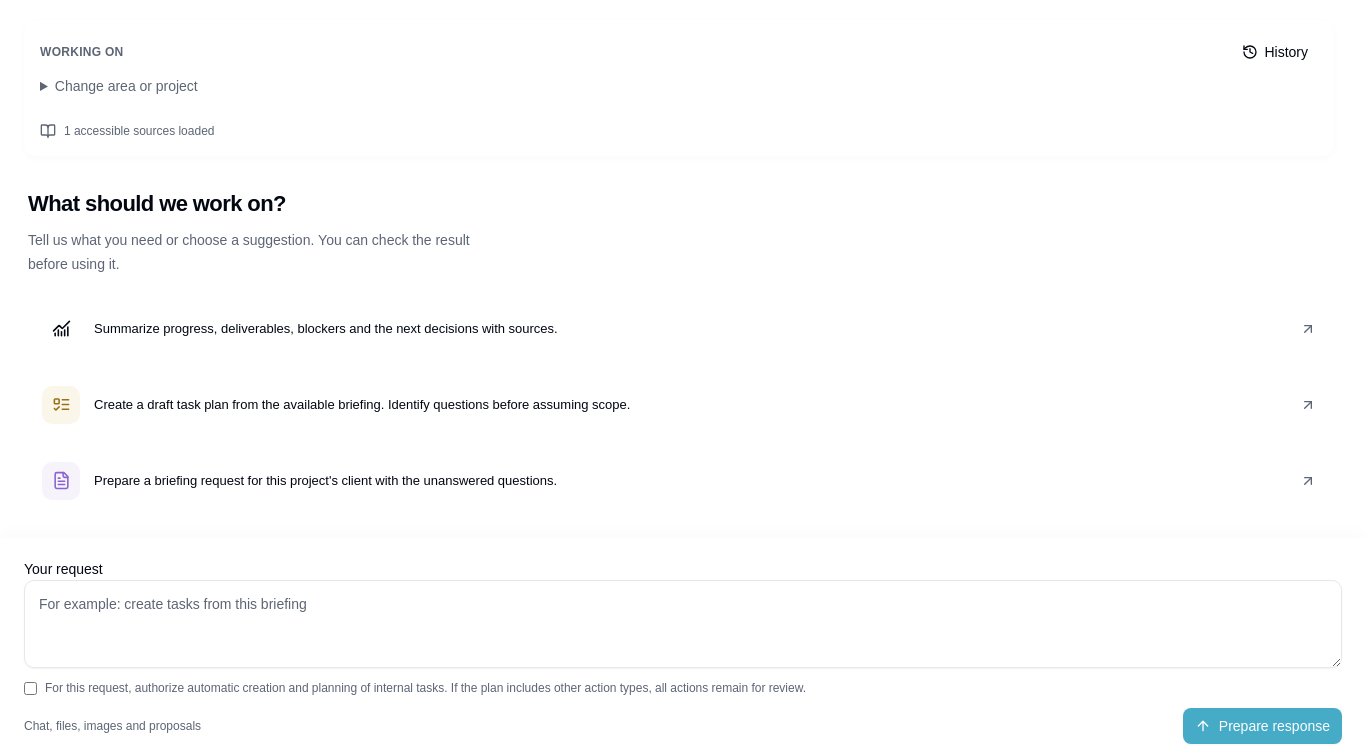
Test: source links use authorized server URLs and a stale-source conflict does not claim success
Expected: the text "1 accessible sources loaded" is shown, [40, 122, 214, 139]
Step 1. Type "Create a review task" into the text box labelled "Your request" → (683, 624), box [24, 580, 1342, 668]
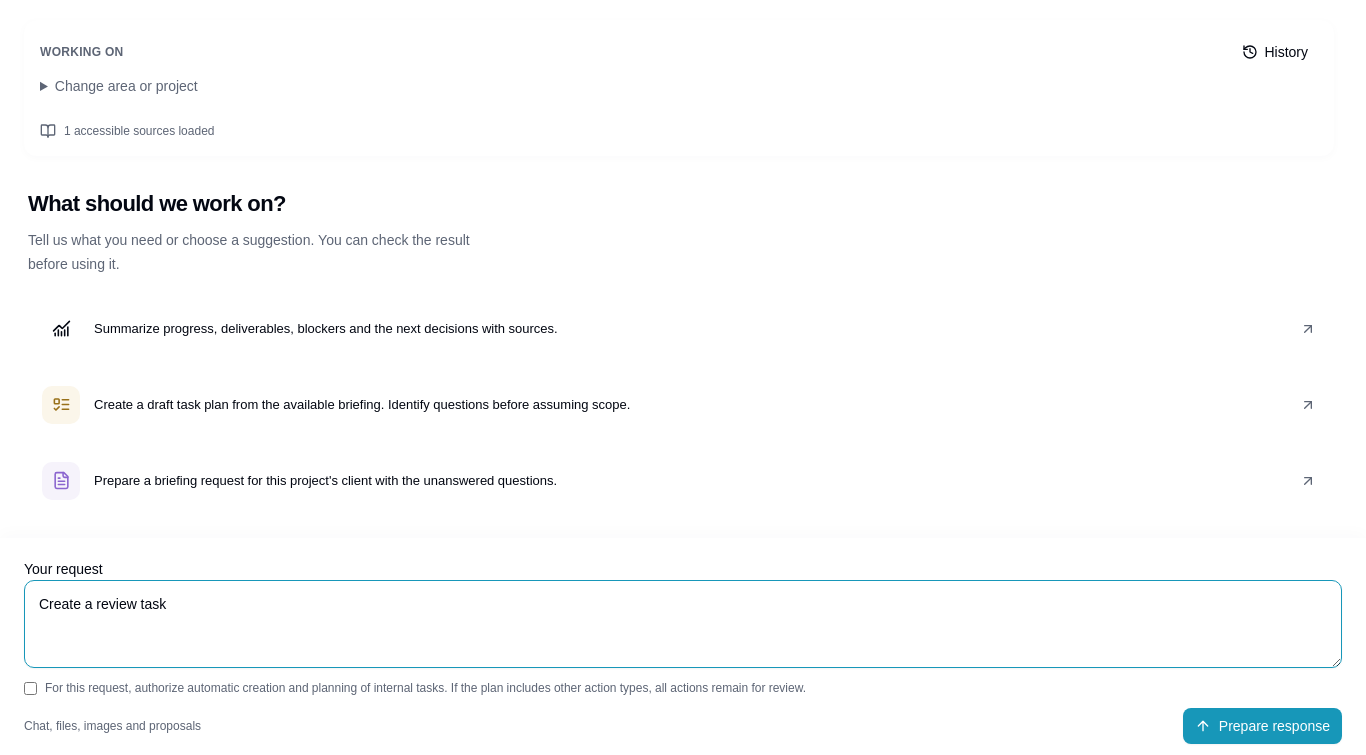
Step 2. Click the button "Prepare response" → (1262, 726), box [1183, 708, 1342, 744]
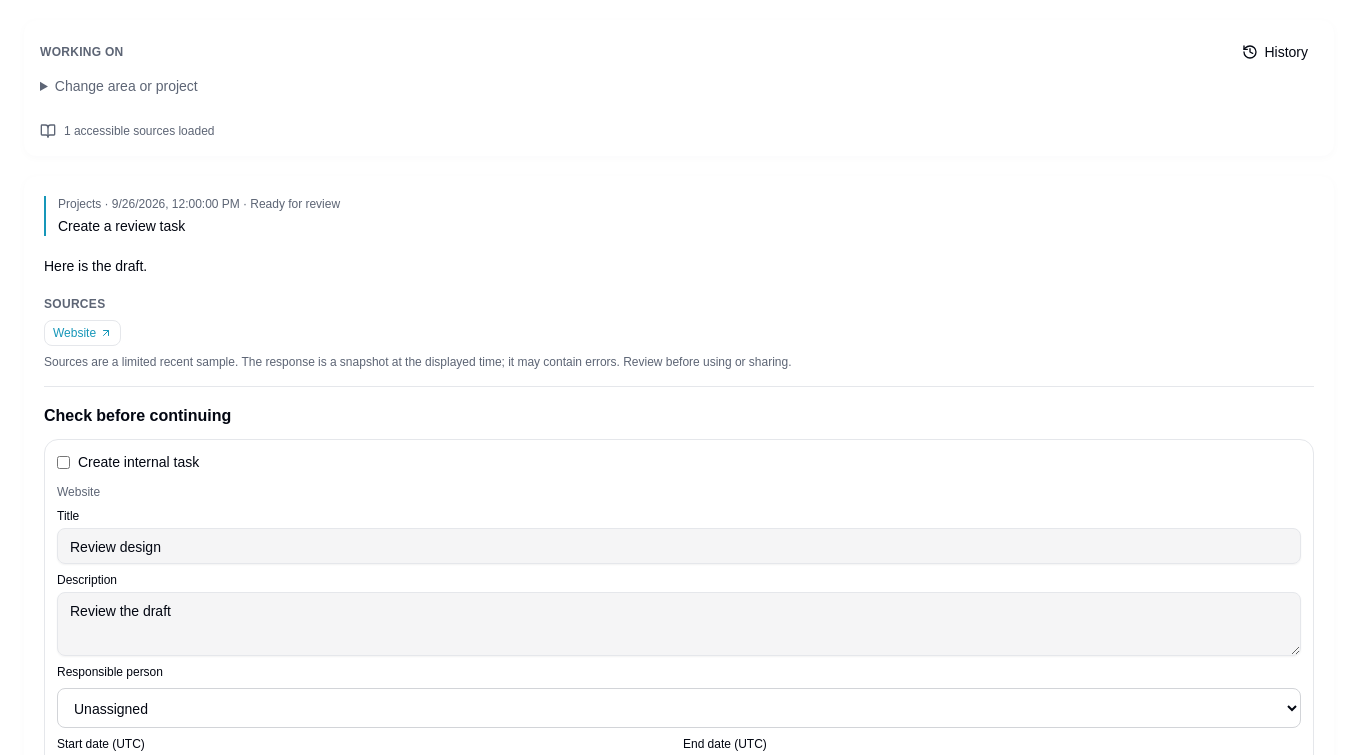
Expected: the text "Here is the draft." is shown, [44, 256, 147, 275]
Step 3. Click the checkbox labelled "Create internal task" → (64, 462), box [57, 456, 70, 468]
(page scrolled)
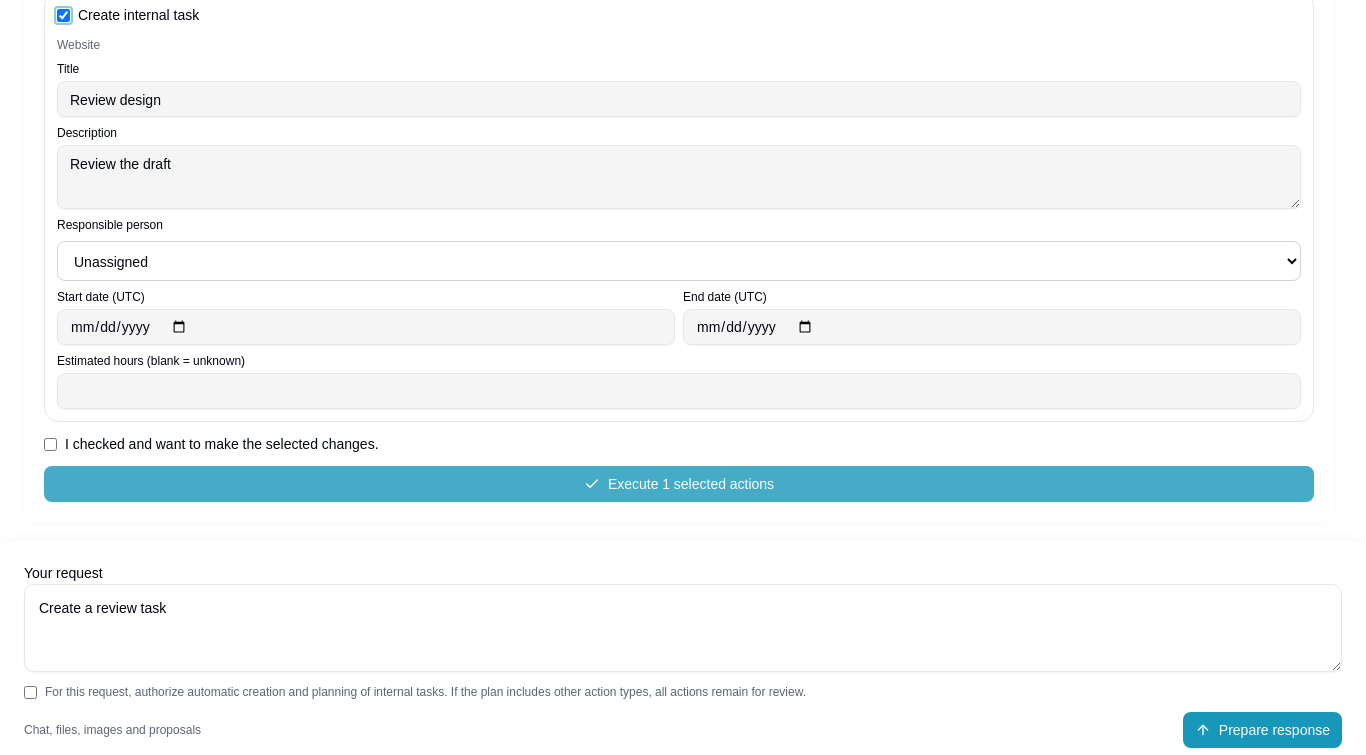
Step 4. Click the checkbox labelled "I checked and want to make the selected changes." → (50, 444), box [44, 438, 57, 451]
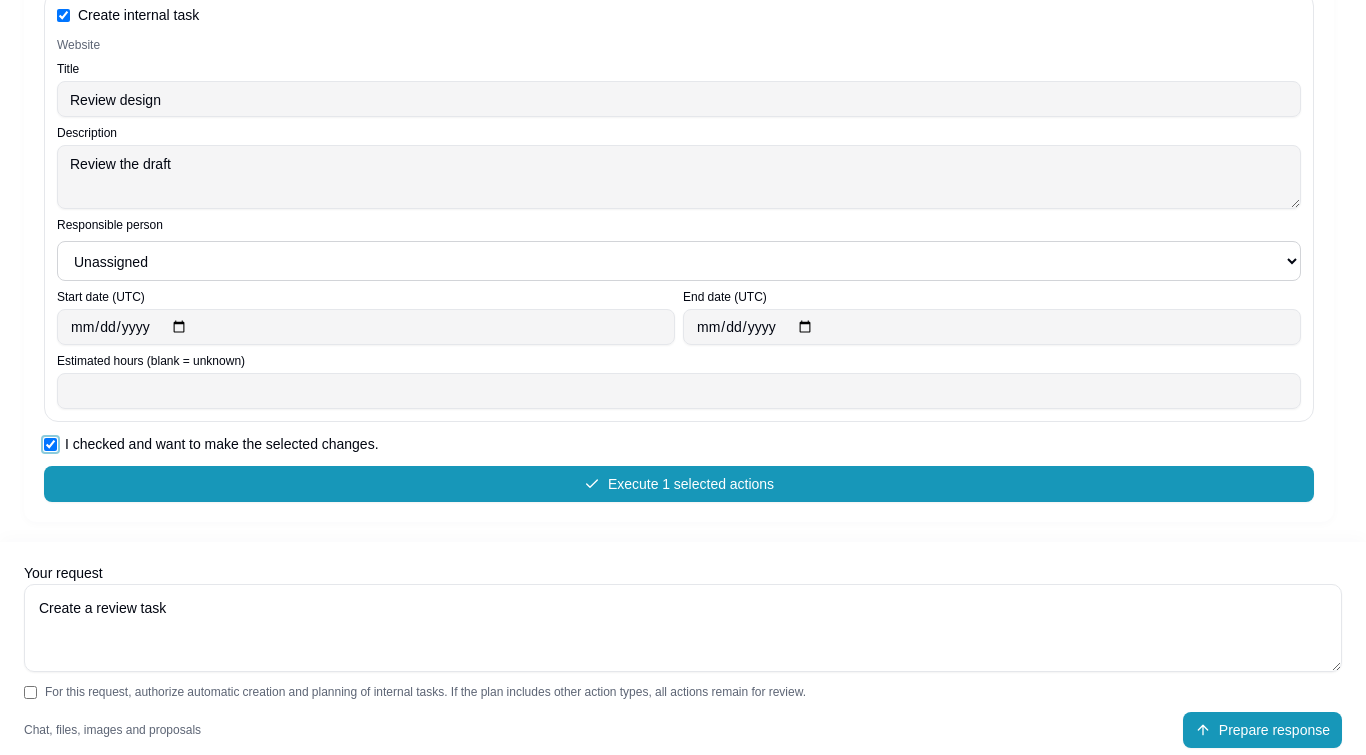
Step 5. Click the button "Execute 1 selected actions" → (679, 484), box [44, 466, 1314, 502]
(page scrolled)
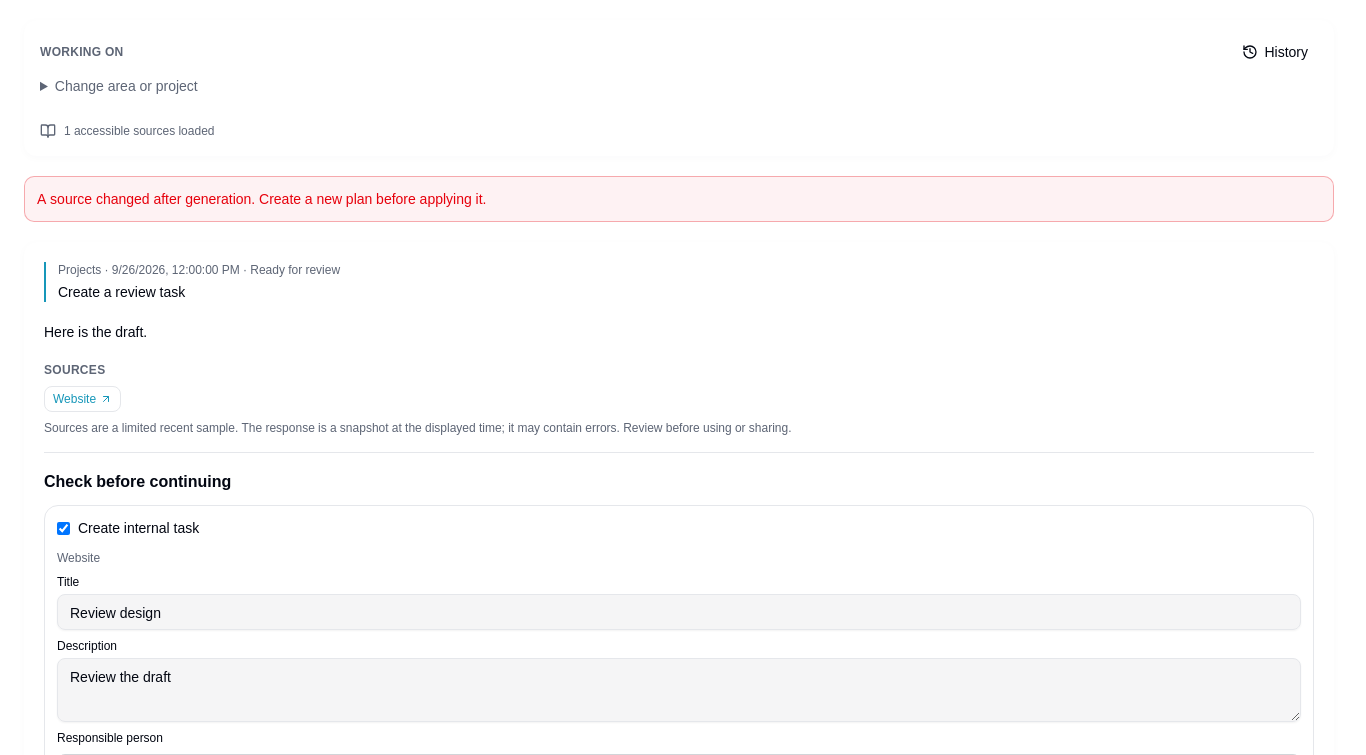
Expected: the message reads "A source changed after generation. Create a new plan before applying it.", [37, 189, 486, 208]
